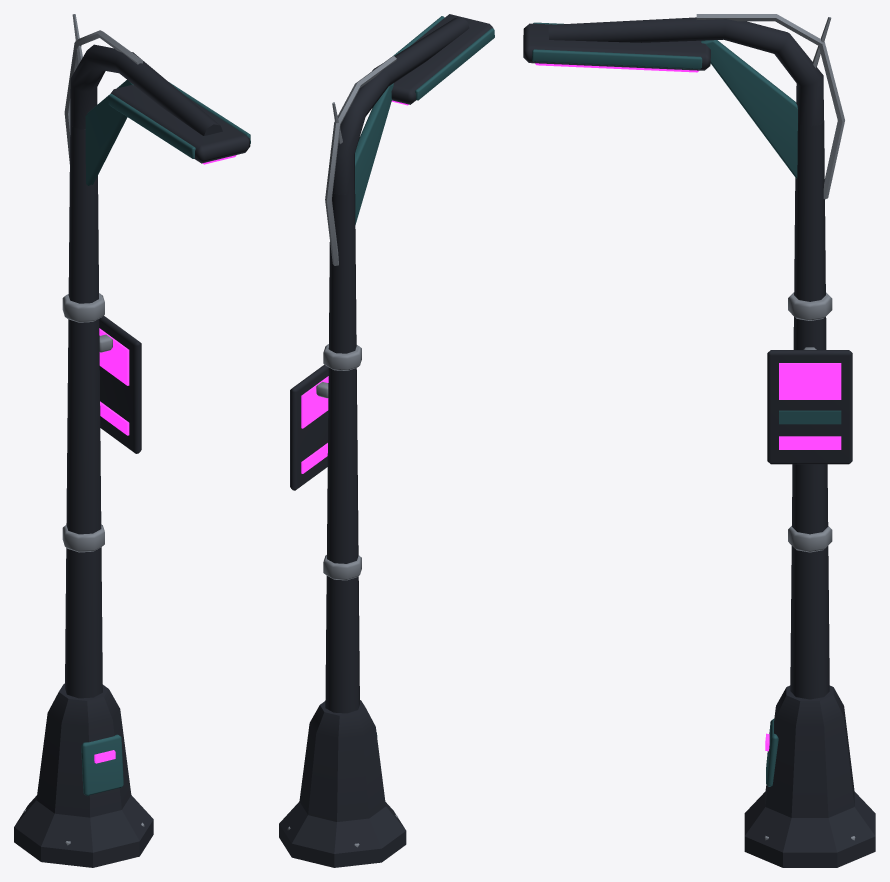
The model's file is prop_lamp.glb.
3 renders of one model, left to right at view 1: azimuth 30°, elevation 25°; view 2: azimuth 150°, elevation 25°; view 3: azimuth 270°, elevation 25°, orthographic. The views are drawn at different scales.
Visible parts, largest first — view 1: body; view 2: body; view 3: body.
Part boxes in pixels (x1=…): body: x1=14, y1=14, x2=250, y2=867; body: x1=279, y1=14, x2=494, y2=867; body: x1=523, y1=14, x2=875, y2=867.
Bounding box in the file's own units: 0.4619 × 3.21 × 1.24.
